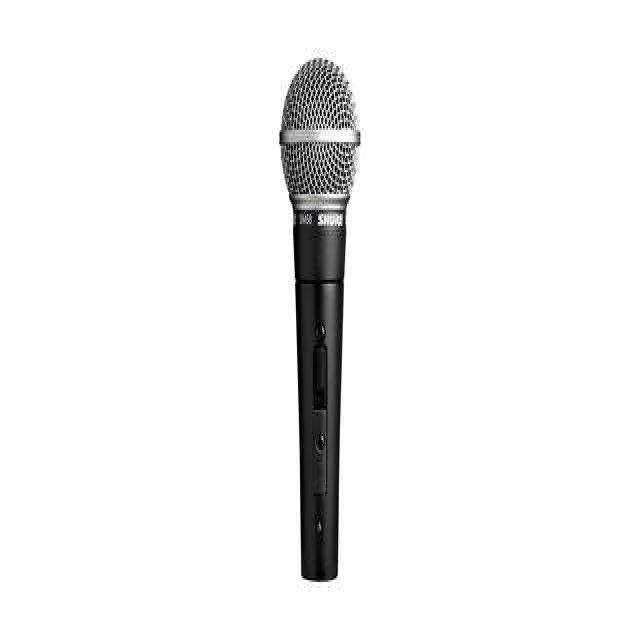microphone: (280, 52, 364, 580), (279, 61, 360, 203)
